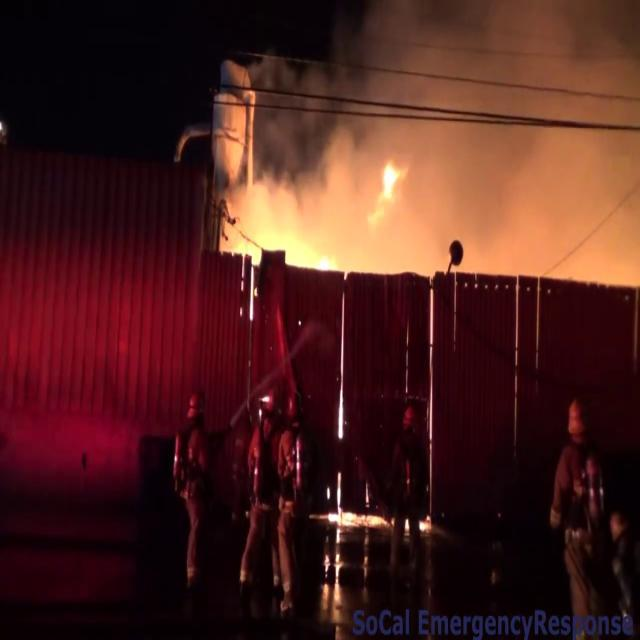Smoke: (260, 0, 640, 254)
